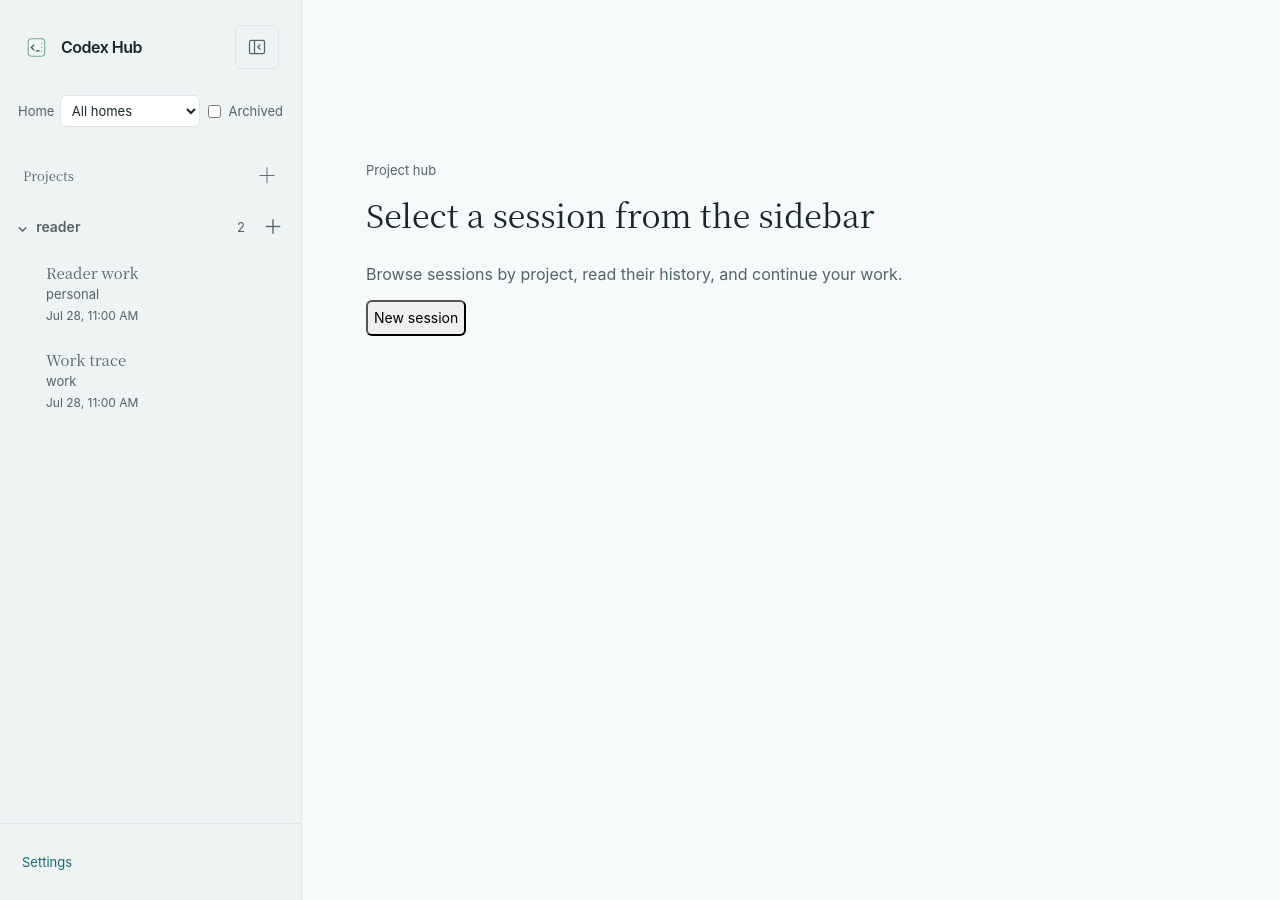
Test: preselects the default creation home and respects an explicit home filter
The image size is (1280, 900).
Step 1. Click the button named "New session" → (267, 175), box [251,153,283,197]
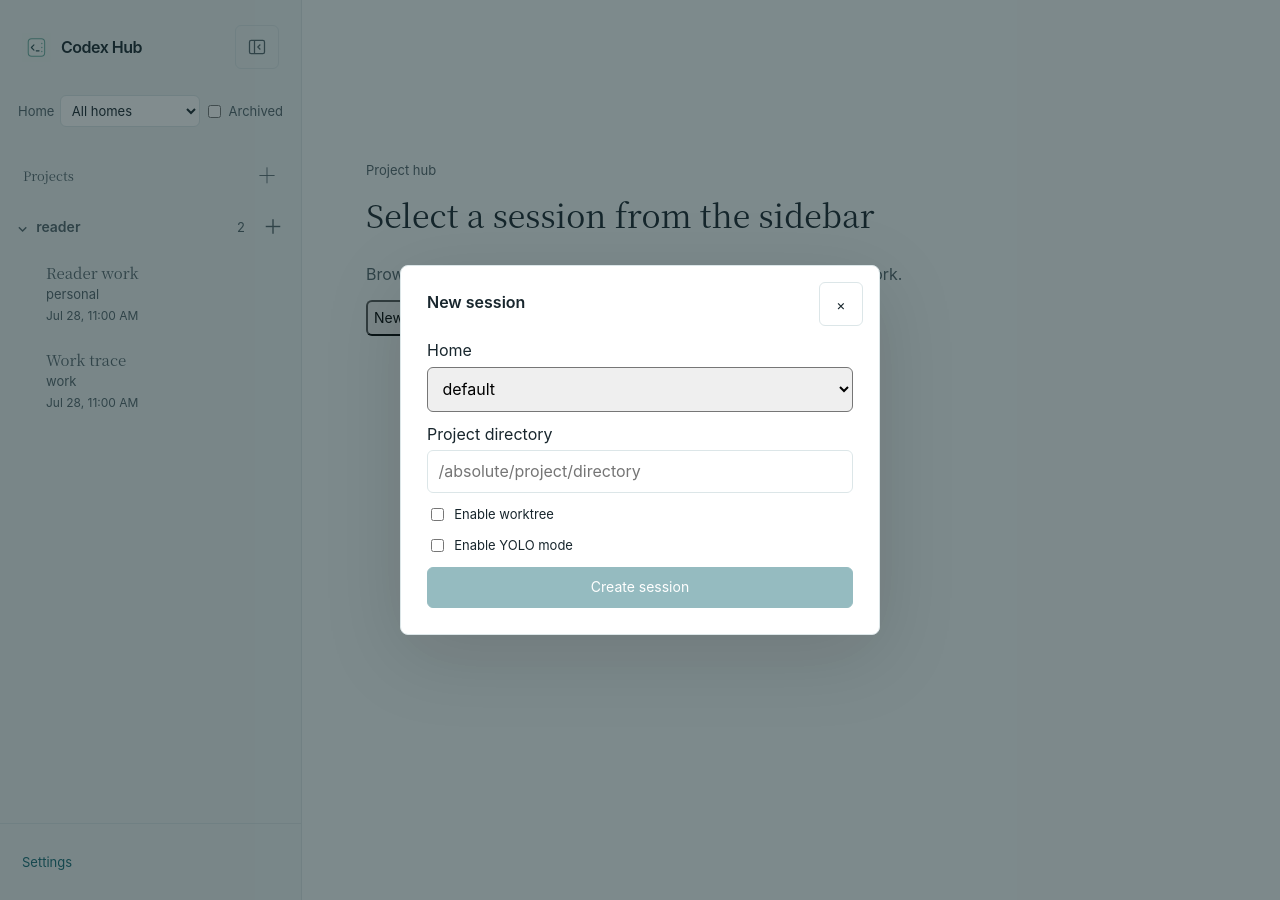
Now the dropdown named "Session home" shows "default", box [427,367,853,412]
Step 2. Type "/project" into the dropdown labelled "Project directory" → (640, 471), box [427,450,853,493]
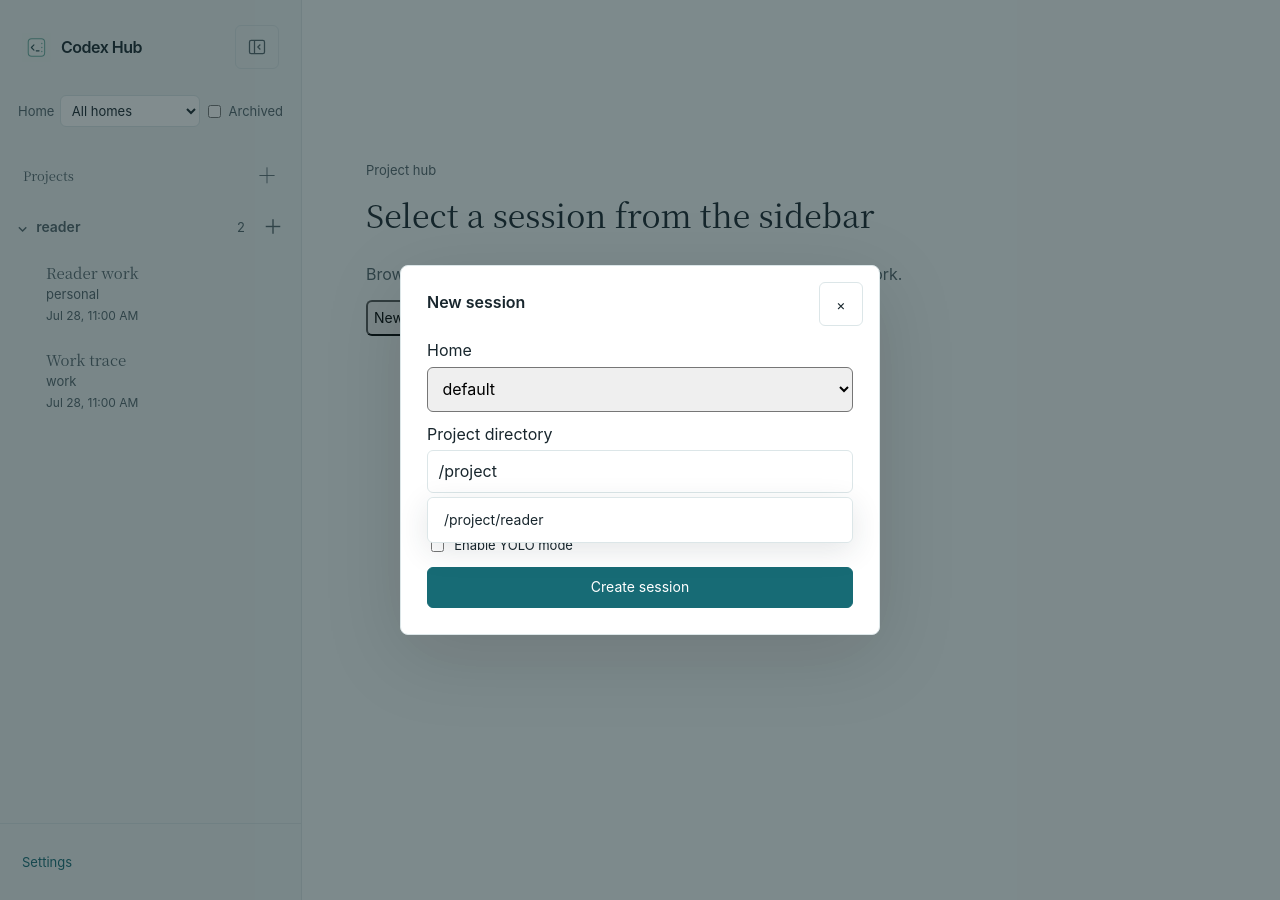
Step 3. Click the button "Create session" → (640, 587), box [427,567,853,608]
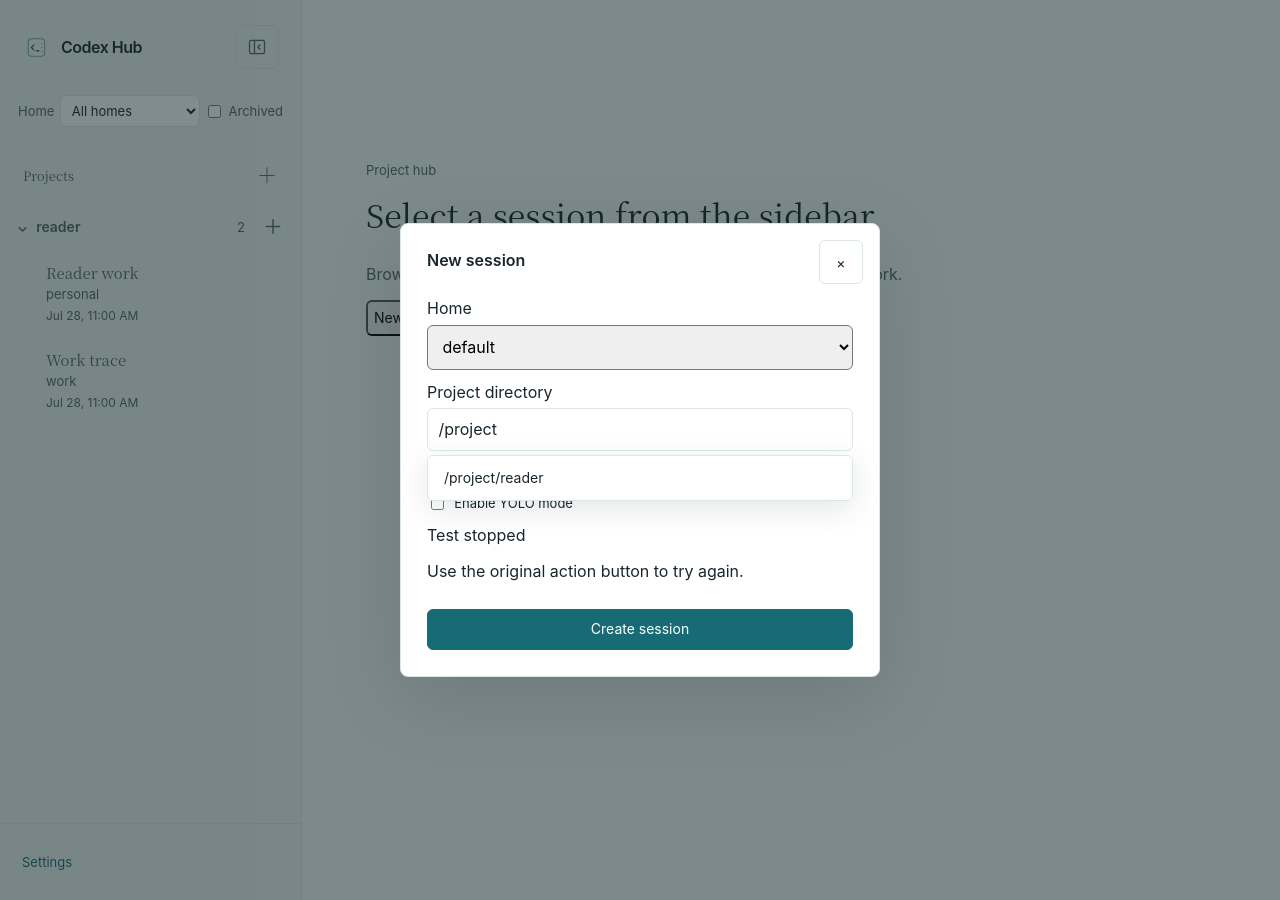
Step 4. Click the button named "Close new session" → (841, 262), box [819,240,863,284]
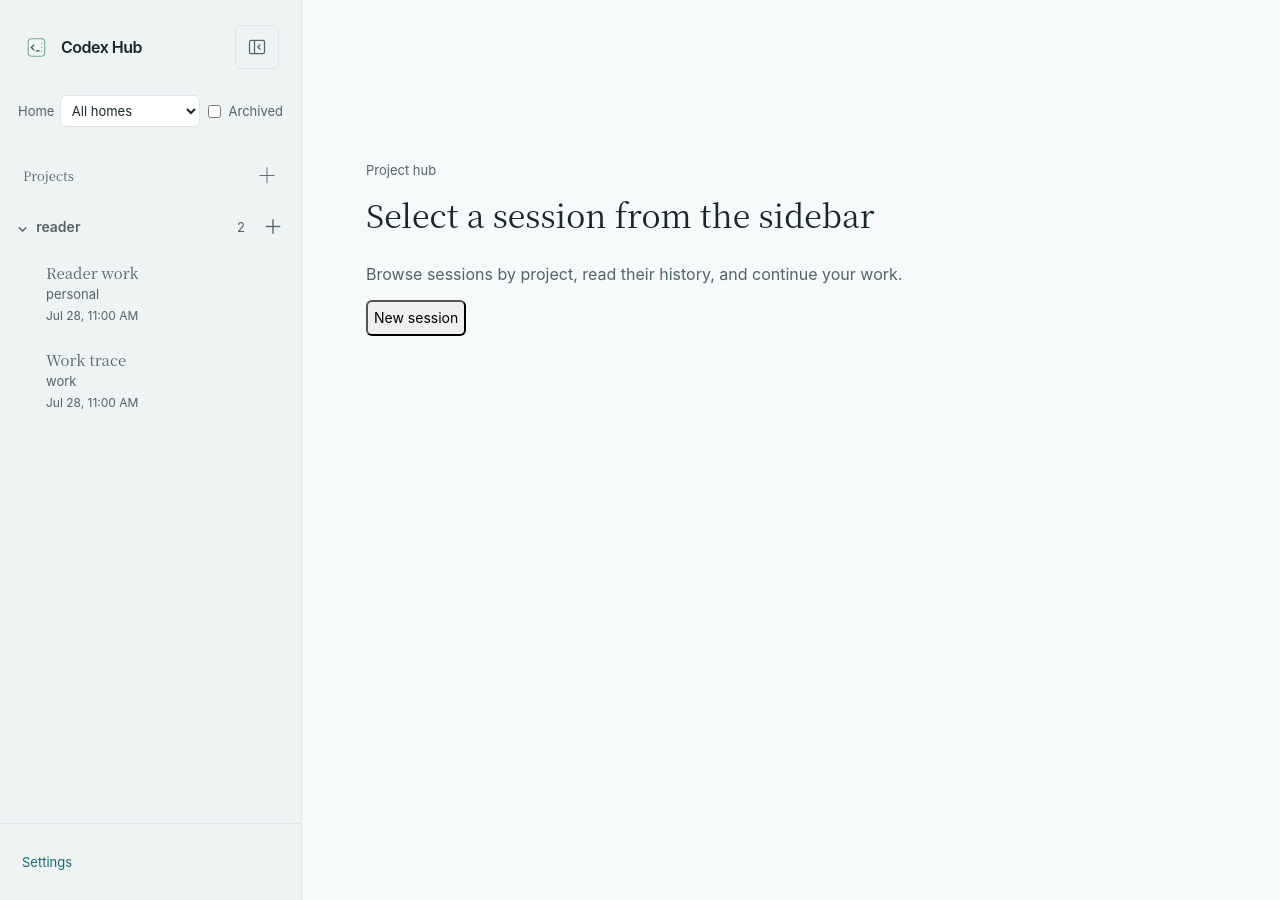
Step 5. Select "work" in the dropdown named "Filter by home" → (130, 111), box [60,95,200,127]
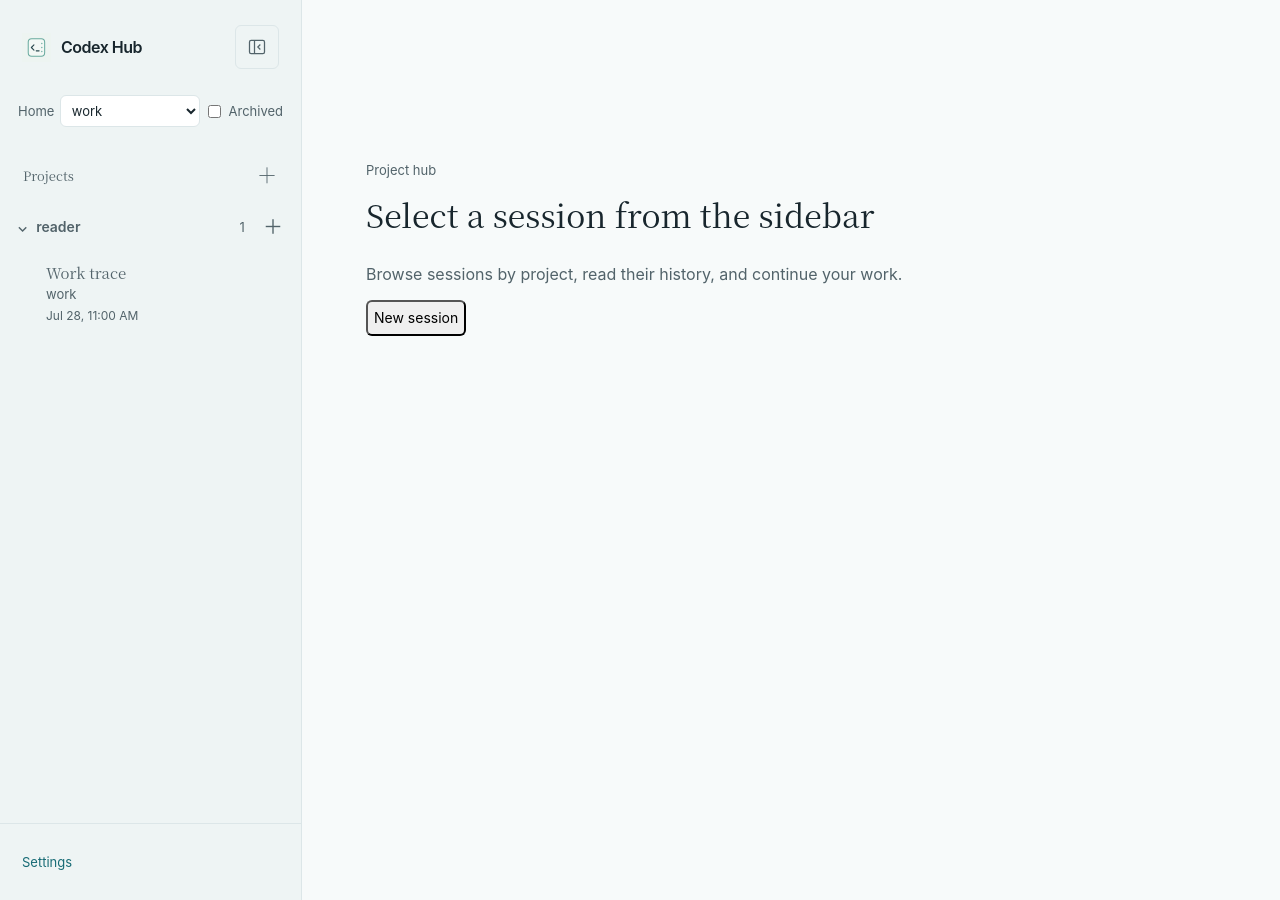
Step 6. Click the button named "New session" → (267, 175), box [251,153,283,197]
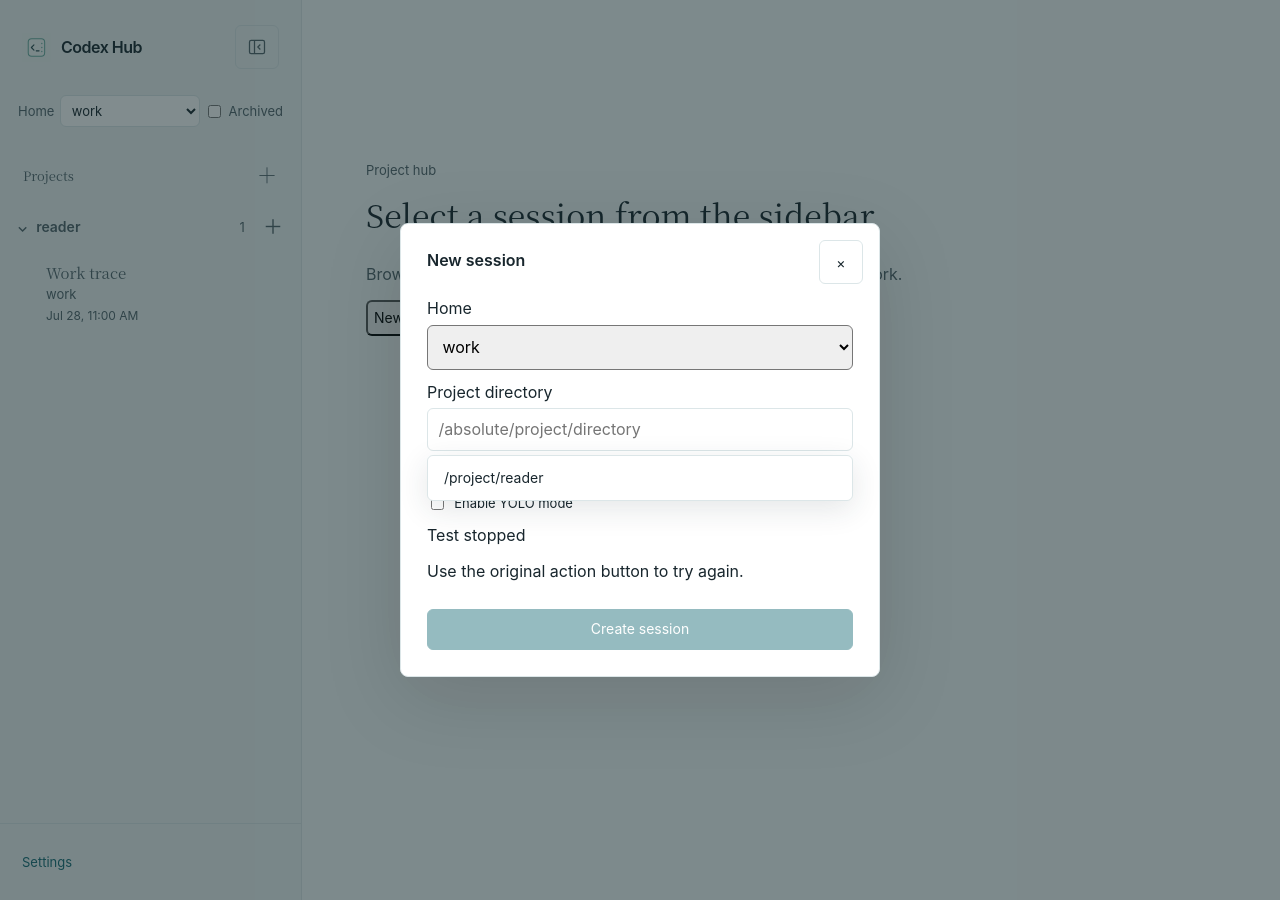
Now the dropdown named "Session home" shows "work", box [427,325,853,370]
